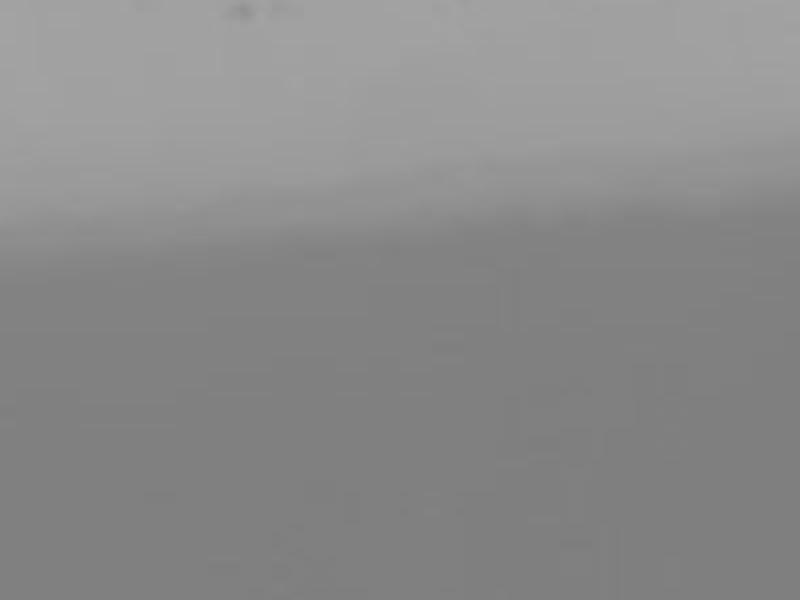defect: (222, 3, 259, 29)
